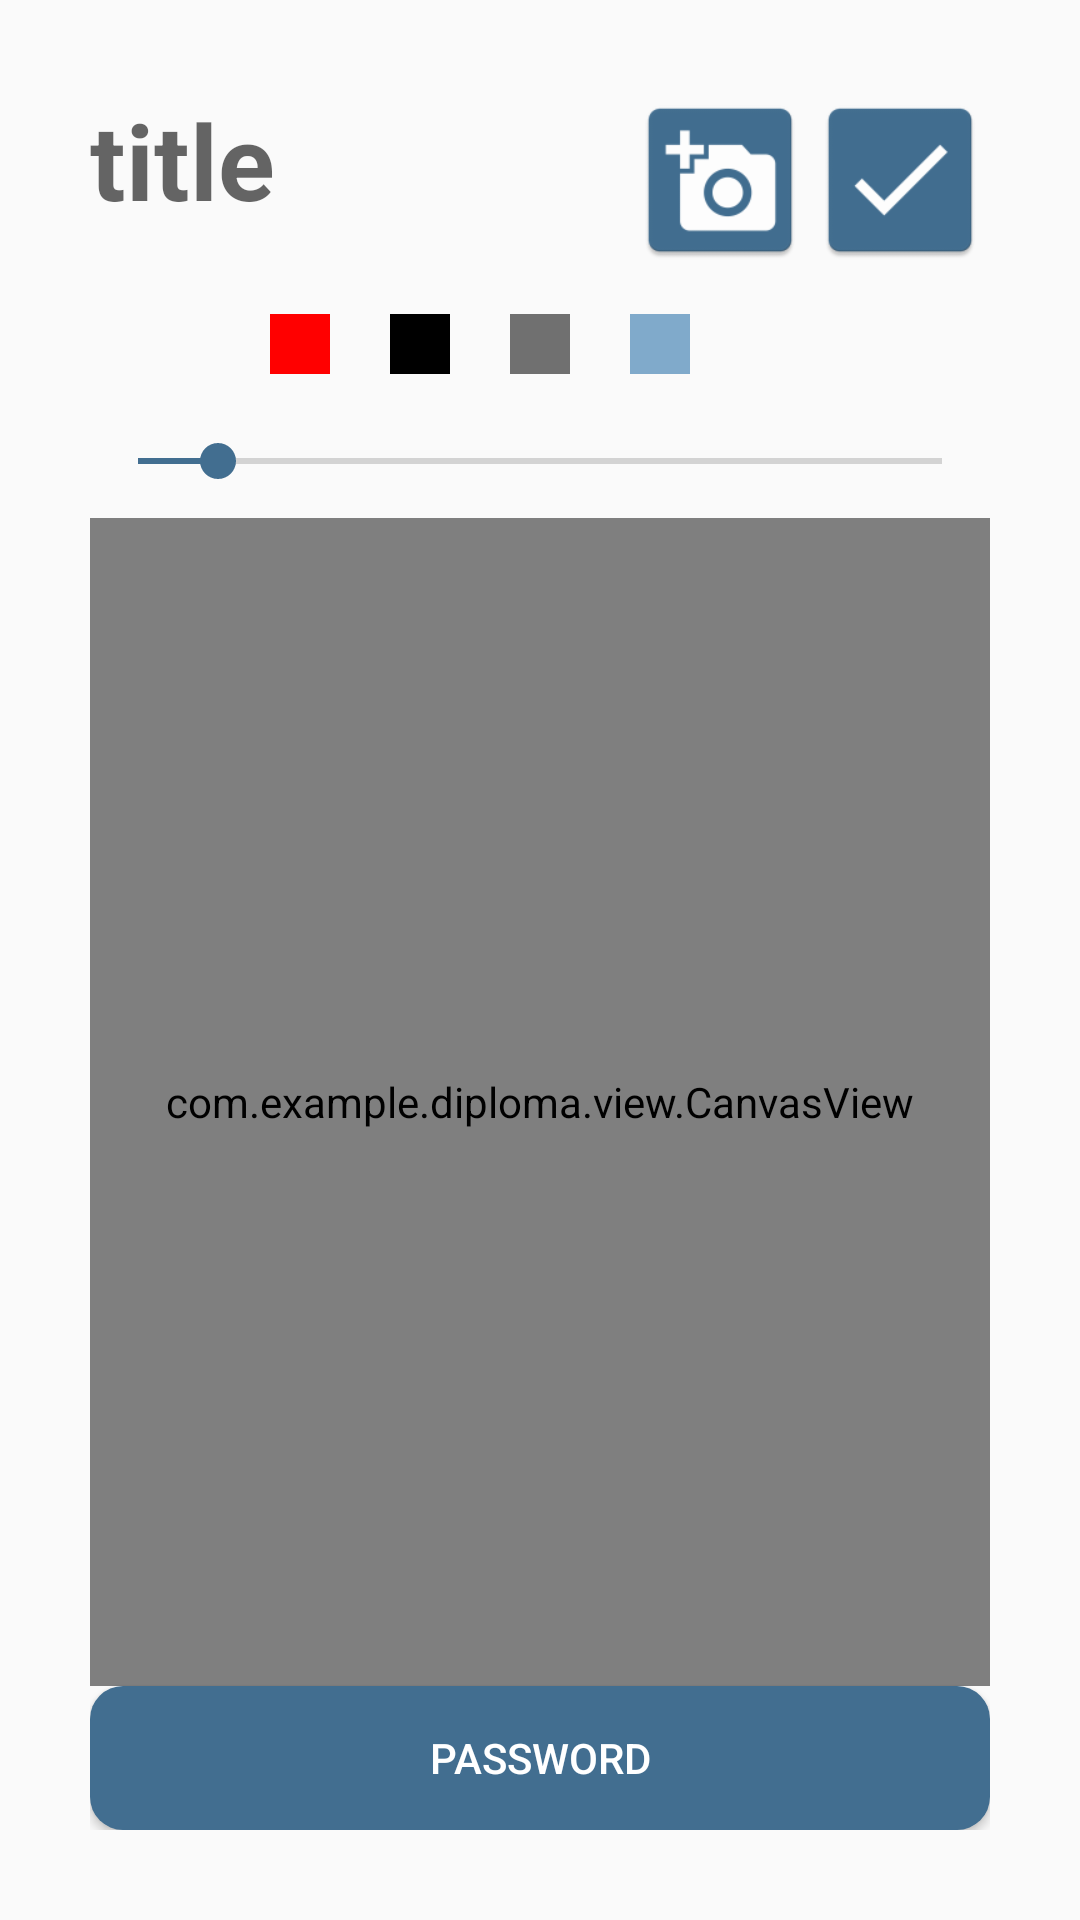

Where to tap for icons on this 1080*1920 app screen, as (x,y):
addphoto: (720,182)
savenote: (900,182)
